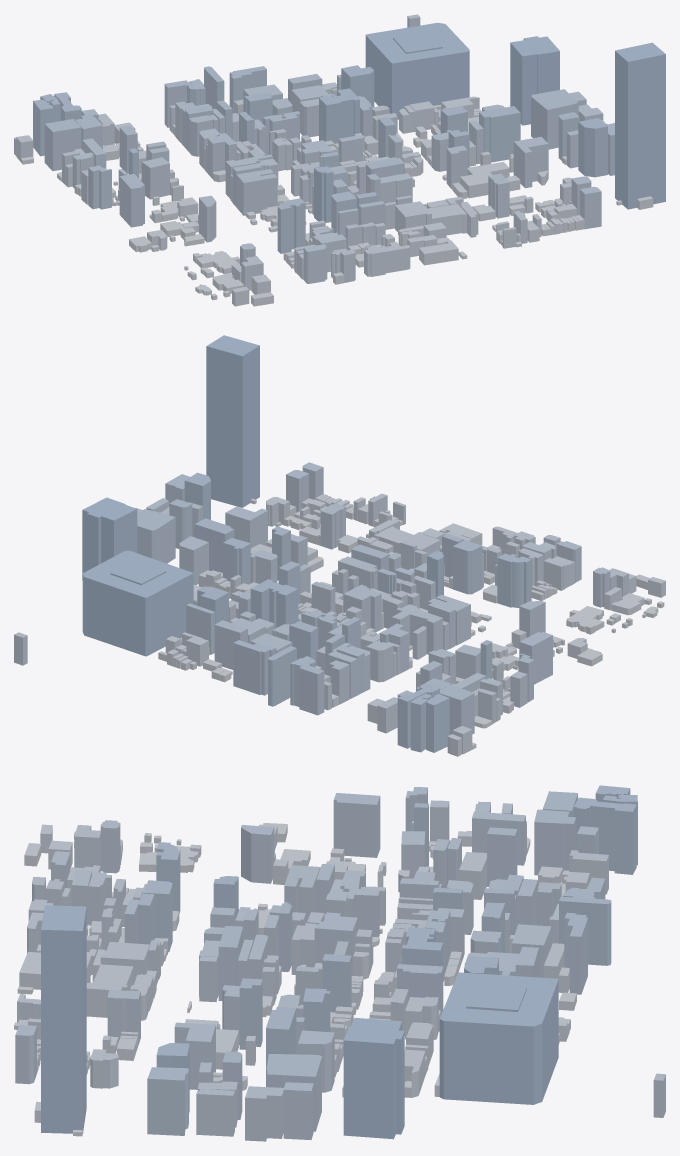
3 views of the same model, one above another, from view 1: azimuth 30°, elevation 25°; view 2: azimuth 150°, elevation 25°; view 3: azimuth 270°, elevation 25° (orthographic). The views are drawn at different scales.
Size of the model in its own units: 511 by 156 by 454.
